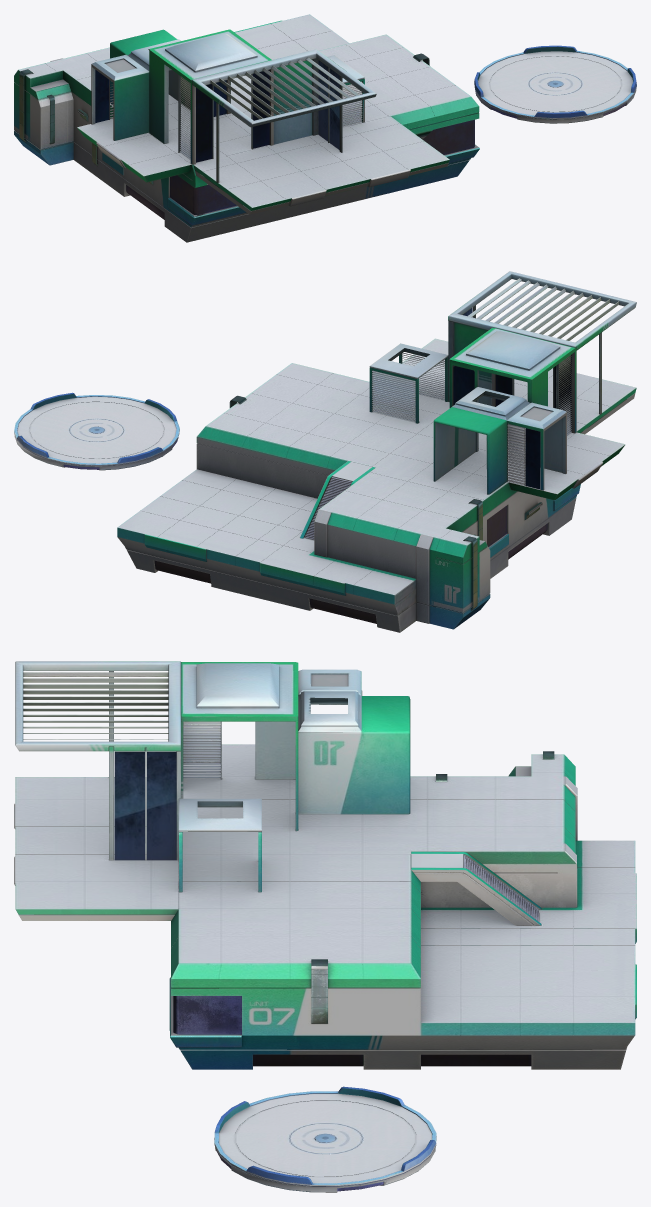
File: greenandheliport.glb
The picture shows the model from 3 angles, top to bottom: view 1: azimuth 30°, elevation 25°; view 2: azimuth 150°, elevation 25°; view 3: azimuth 270°, elevation 25°; orthographic projection. The views are drawn at different scales.
Parts seen in each view (by area): view 1: building green down, building green up, heliport.001; view 2: building green down, building green up, heliport.001; view 3: building green down, building green up, heliport.001.
Part boxes in pixels (<box>): building green down: <box>14,14,479,242</box>; building green up: <box>19,29,429,184</box>; heliport.001: <box>474,45,636,123</box>; building green down: <box>117,338,636,632</box>; building green up: <box>229,271,636,610</box>; heliport.001: <box>14,392,179,470</box>; building green down: <box>14,744,636,1069</box>; building green up: <box>15,661,554,1023</box>; heliport.001: <box>214,1086,436,1192</box>.
Size of the model in its own units: 103 by 31.72 by 75.81.
3 materials, 3 textured.
